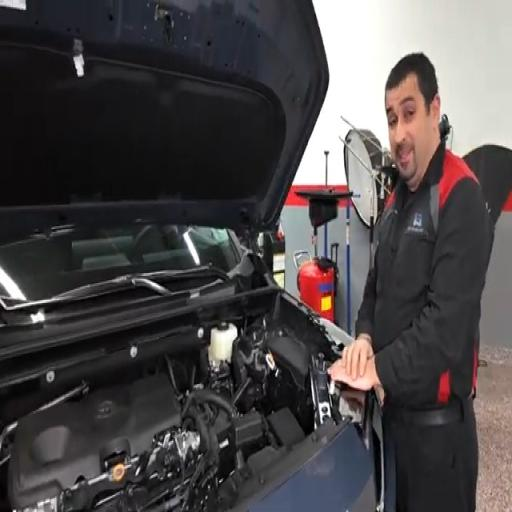hood: (0, 0, 328, 228)
windshield: (0, 224, 238, 301)
